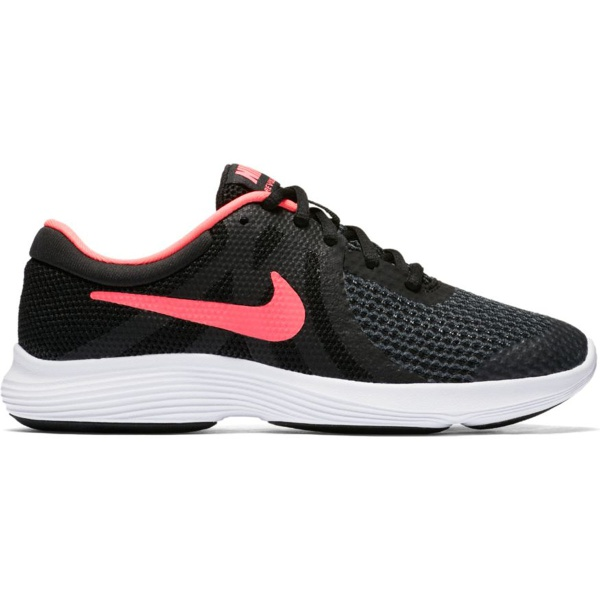nike: (85, 270, 309, 347)
